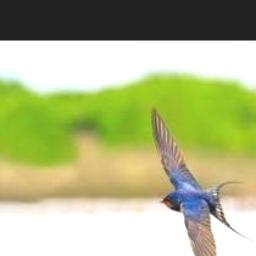Swallow: (152, 104, 255, 256)
